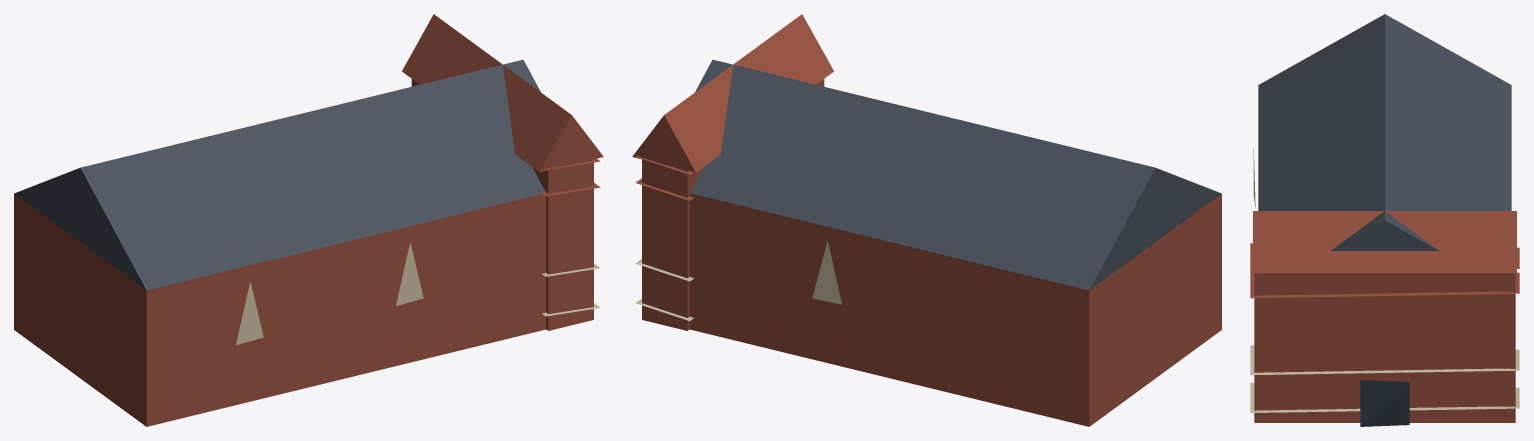
The model's file is paradiso.lod2.glb.
The picture shows the model from 3 angles, left to right: view 1: azimuth 30°, elevation 25°; view 2: azimuth 150°, elevation 25°; view 3: azimuth 270°, elevation 25°; orthographic projection. The views are drawn at different scales.
Visible parts, largest first — view 1: lod2; view 2: lod2; view 3: lod2.
Boxes of the visible parts, x1,y1,x2,y2 form: lod2: (14,14,603,426); lod2: (632,14,1221,426); lod2: (1250,14,1519,426).
Bounding box in the file's own units: 38.67 × 17 × 20.62.
